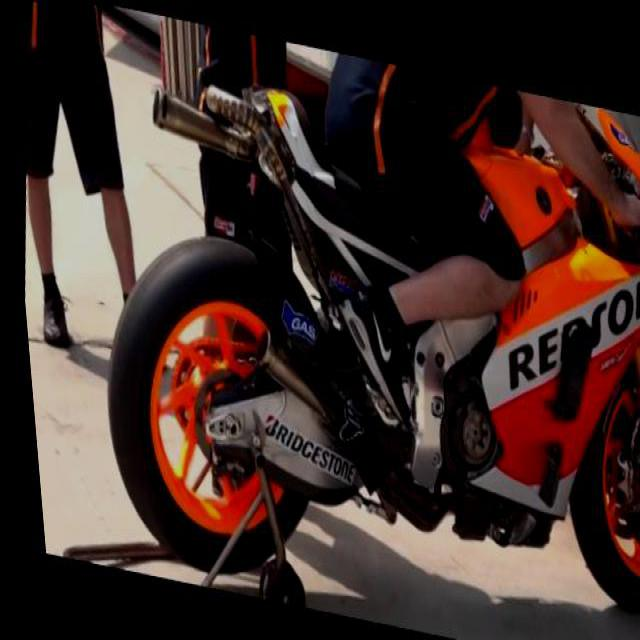HRC RCV 213: (59, 1, 639, 639)
